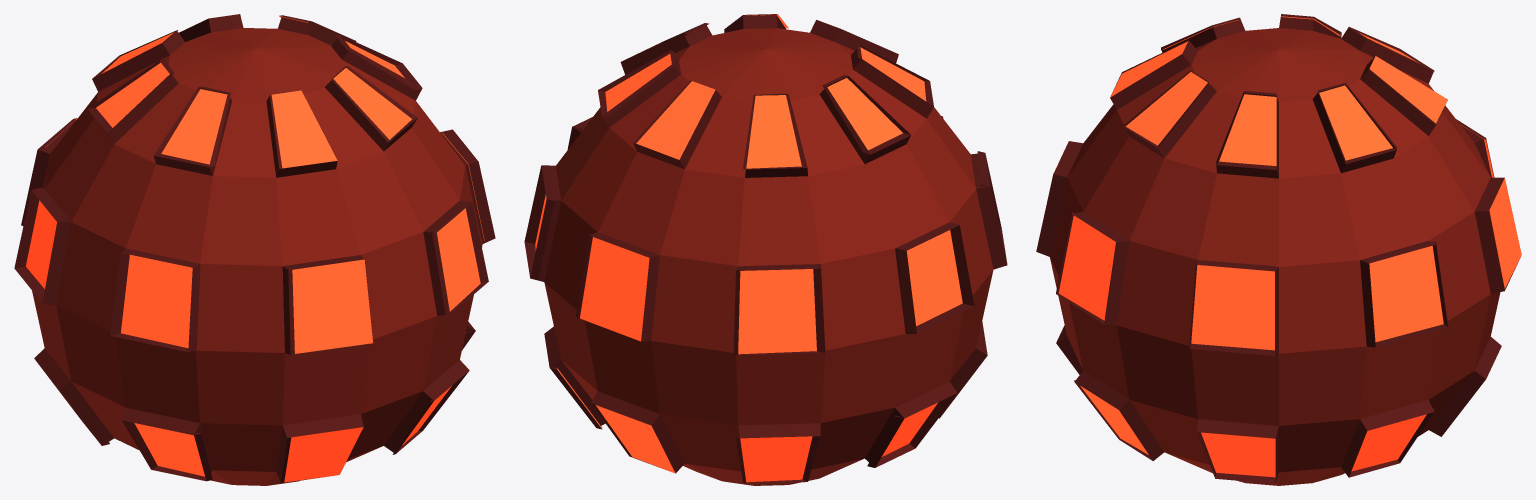
File: studio_planet_05.glb
The picture shows the model from 3 angles, left to right: view 1: azimuth 30°, elevation 25°; view 2: azimuth 150°, elevation 25°; view 3: azimuth 270°, elevation 25°; orthographic projection.
Parts seen in each view (by area): view 1: Sphere.004; view 2: Sphere.004; view 3: Sphere.004.
Part boxes in pixels (x1,y1,x2,y2): Sphere.004: (14, 14, 495, 485); Sphere.004: (524, 14, 1007, 485); Sphere.004: (1036, 14, 1521, 485).
Size of the model in its own units: 7.67 by 7.24 by 7.67.
